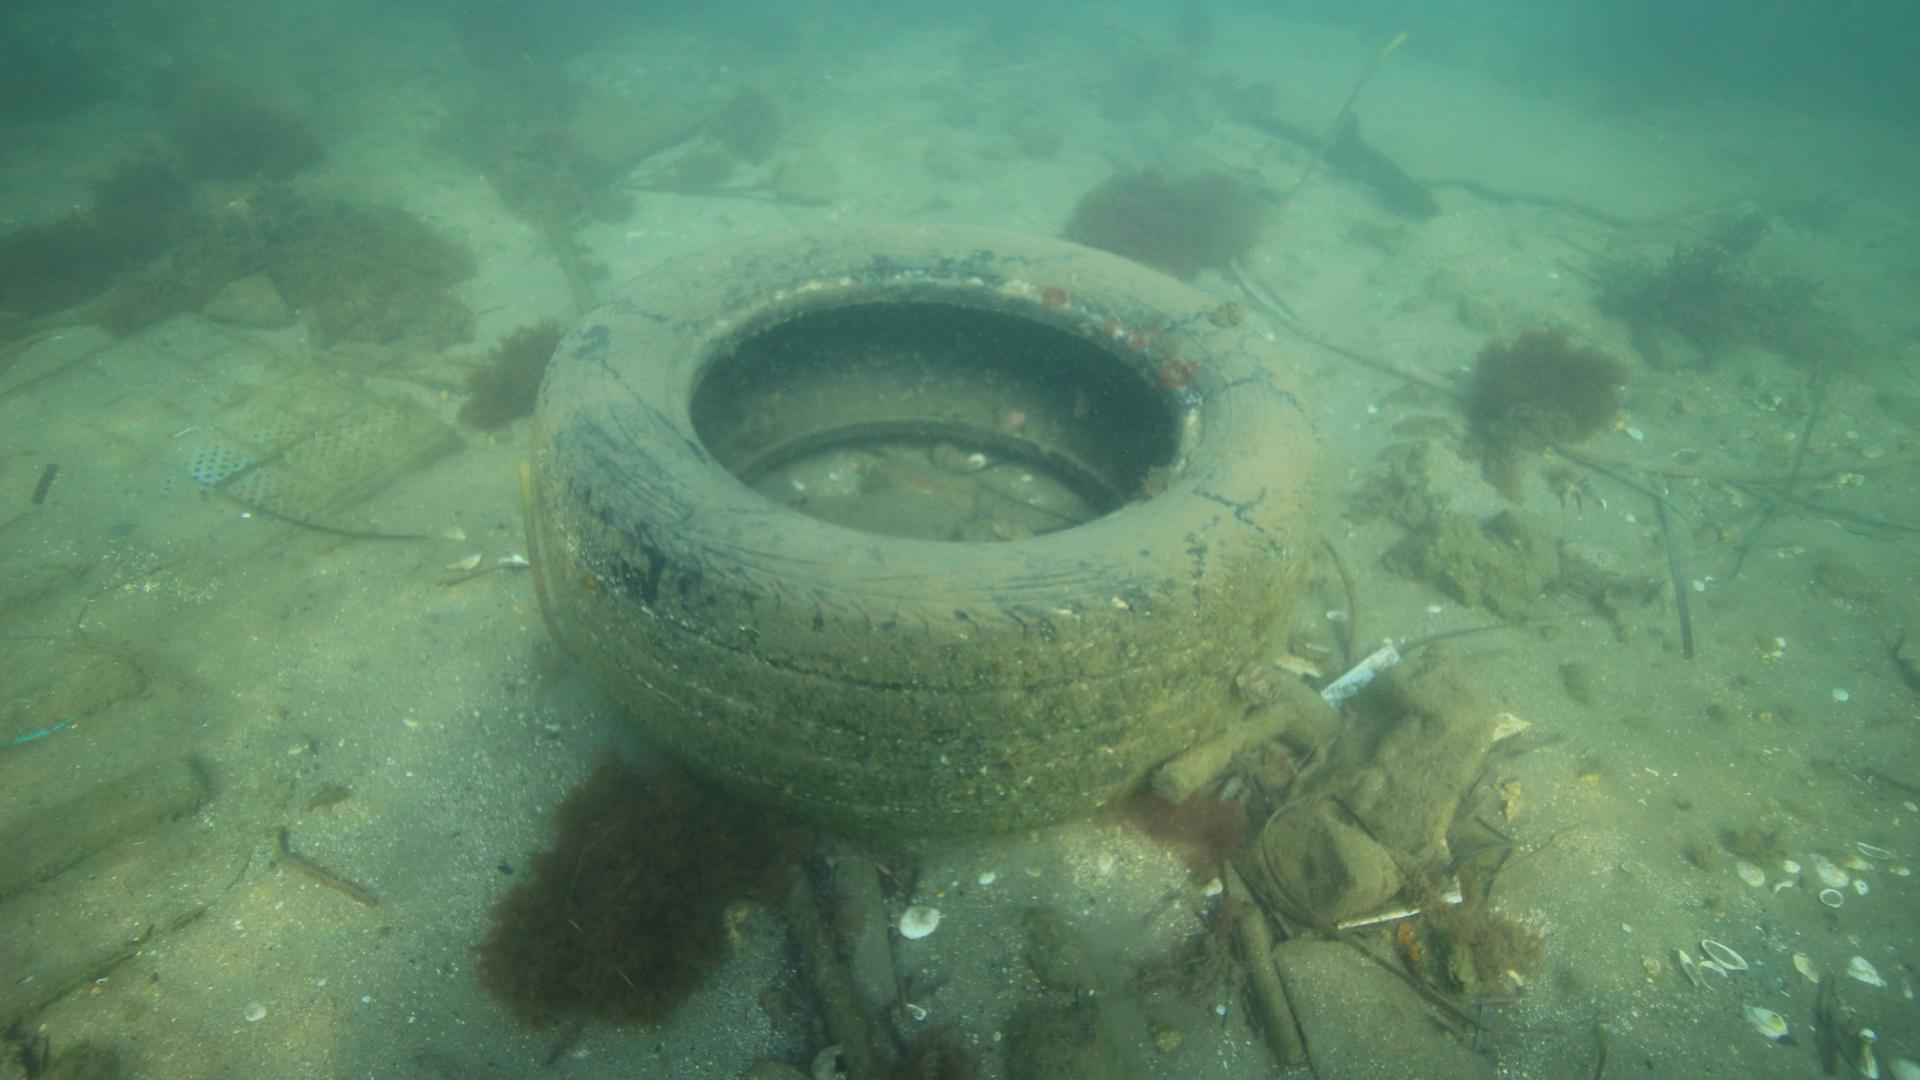rope: (777, 864, 881, 1080), (554, 233, 600, 316)
tire: (533, 220, 1323, 836)
